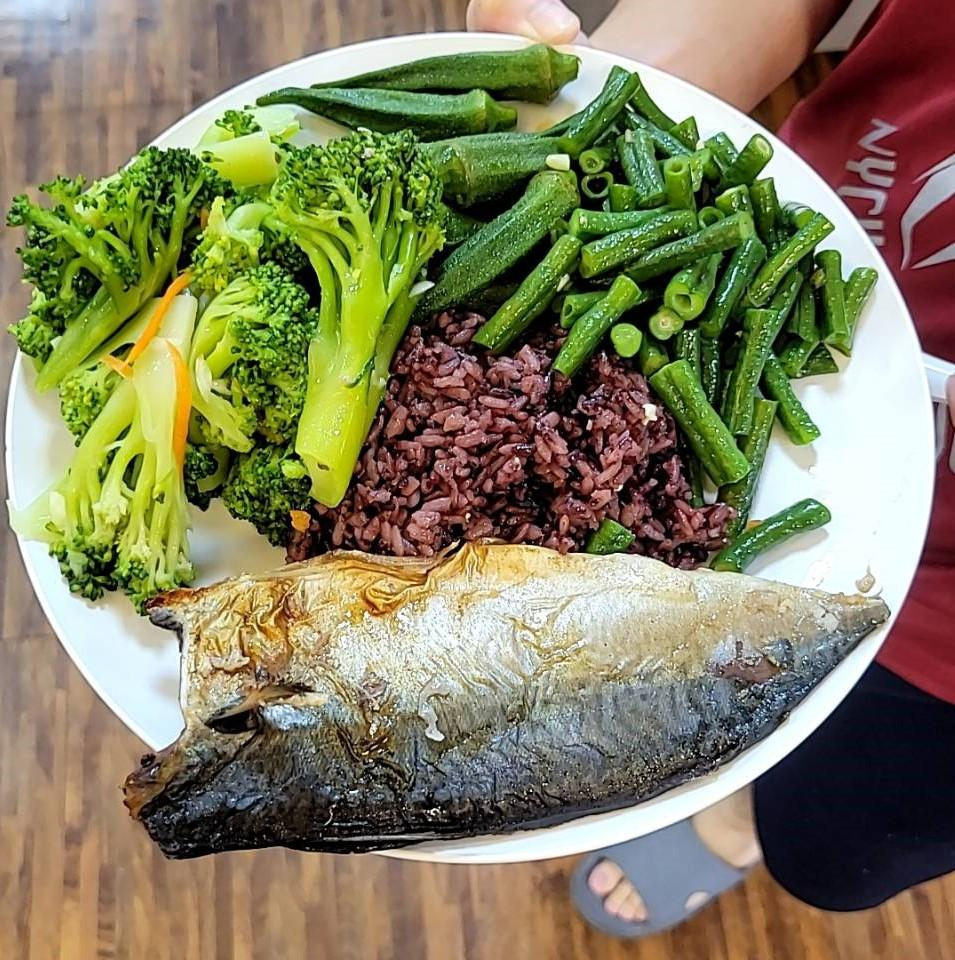big fried chicken leg: (10, 16, 955, 887)
braised fish: (335, 318, 695, 551)
braised fish fillet: (441, 82, 894, 567), (20, 114, 444, 596), (249, 38, 578, 145)
braised pork ribs: (119, 524, 884, 877)
